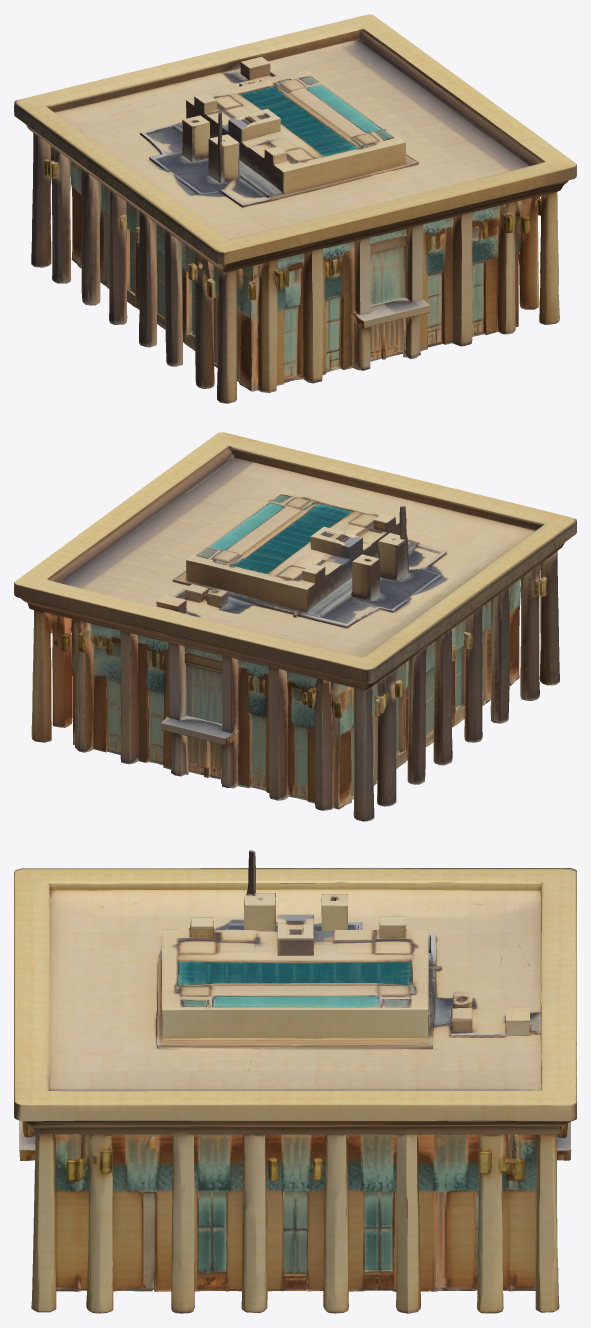
Rendered from lm_knesset_nb.glb.
The picture shows the model from 3 angles, top to bottom: view 1: azimuth 30°, elevation 25°; view 2: azimuth 150°, elevation 25°; view 3: azimuth 270°, elevation 25°; orthographic projection. The views are drawn at different scales.
Parts seen in each view (by area): view 1: geometry_0; view 2: geometry_0; view 3: geometry_0.
Part boxes in pixels (left/top/right/bottom): geometry_0: left=14, top=14, right=576, bottom=403; geometry_0: left=14, top=432, right=576, bottom=821; geometry_0: left=14, top=850, right=576, bottom=1313.
Bounding box in the file's own units: 55.86 × 32.17 × 55.95.
Materials: 1 (1 with a texture image).
